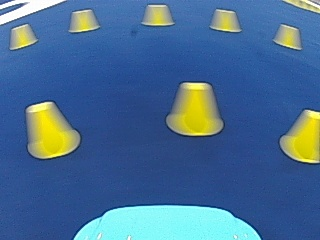cone: (24, 101, 79, 159), (168, 81, 223, 136), (281, 110, 319, 162), (273, 23, 301, 49), (209, 8, 240, 31), (9, 23, 36, 49), (69, 9, 99, 32), (142, 4, 173, 26)
